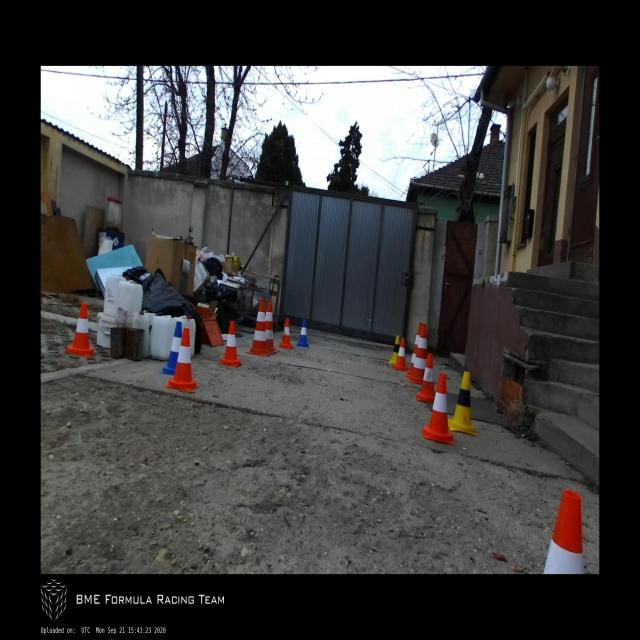blue_cone: (160, 321, 182, 375), (296, 319, 309, 347)
large_orange_cone: (246, 299, 271, 357), (408, 323, 427, 384), (406, 323, 423, 376), (266, 301, 277, 353)
orange_cone: (543, 490, 583, 574), (422, 373, 454, 445), (164, 328, 200, 392), (66, 303, 97, 357), (218, 321, 240, 367), (416, 353, 434, 402), (393, 338, 408, 370), (279, 318, 292, 348)
yellow_cone: (448, 371, 477, 436), (389, 335, 400, 365)
